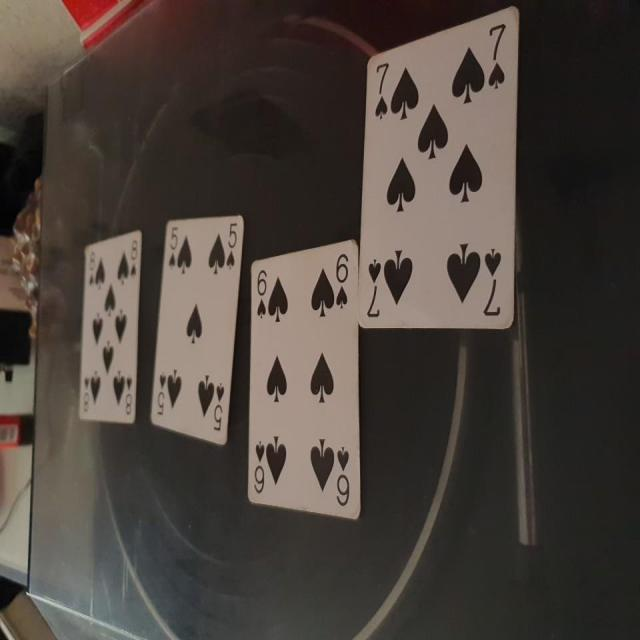5 Spades: (143, 214, 250, 448)
6 Spades: (236, 237, 372, 534)
7 Spades: (354, 2, 532, 340)
8 Spades: (69, 223, 145, 427)
